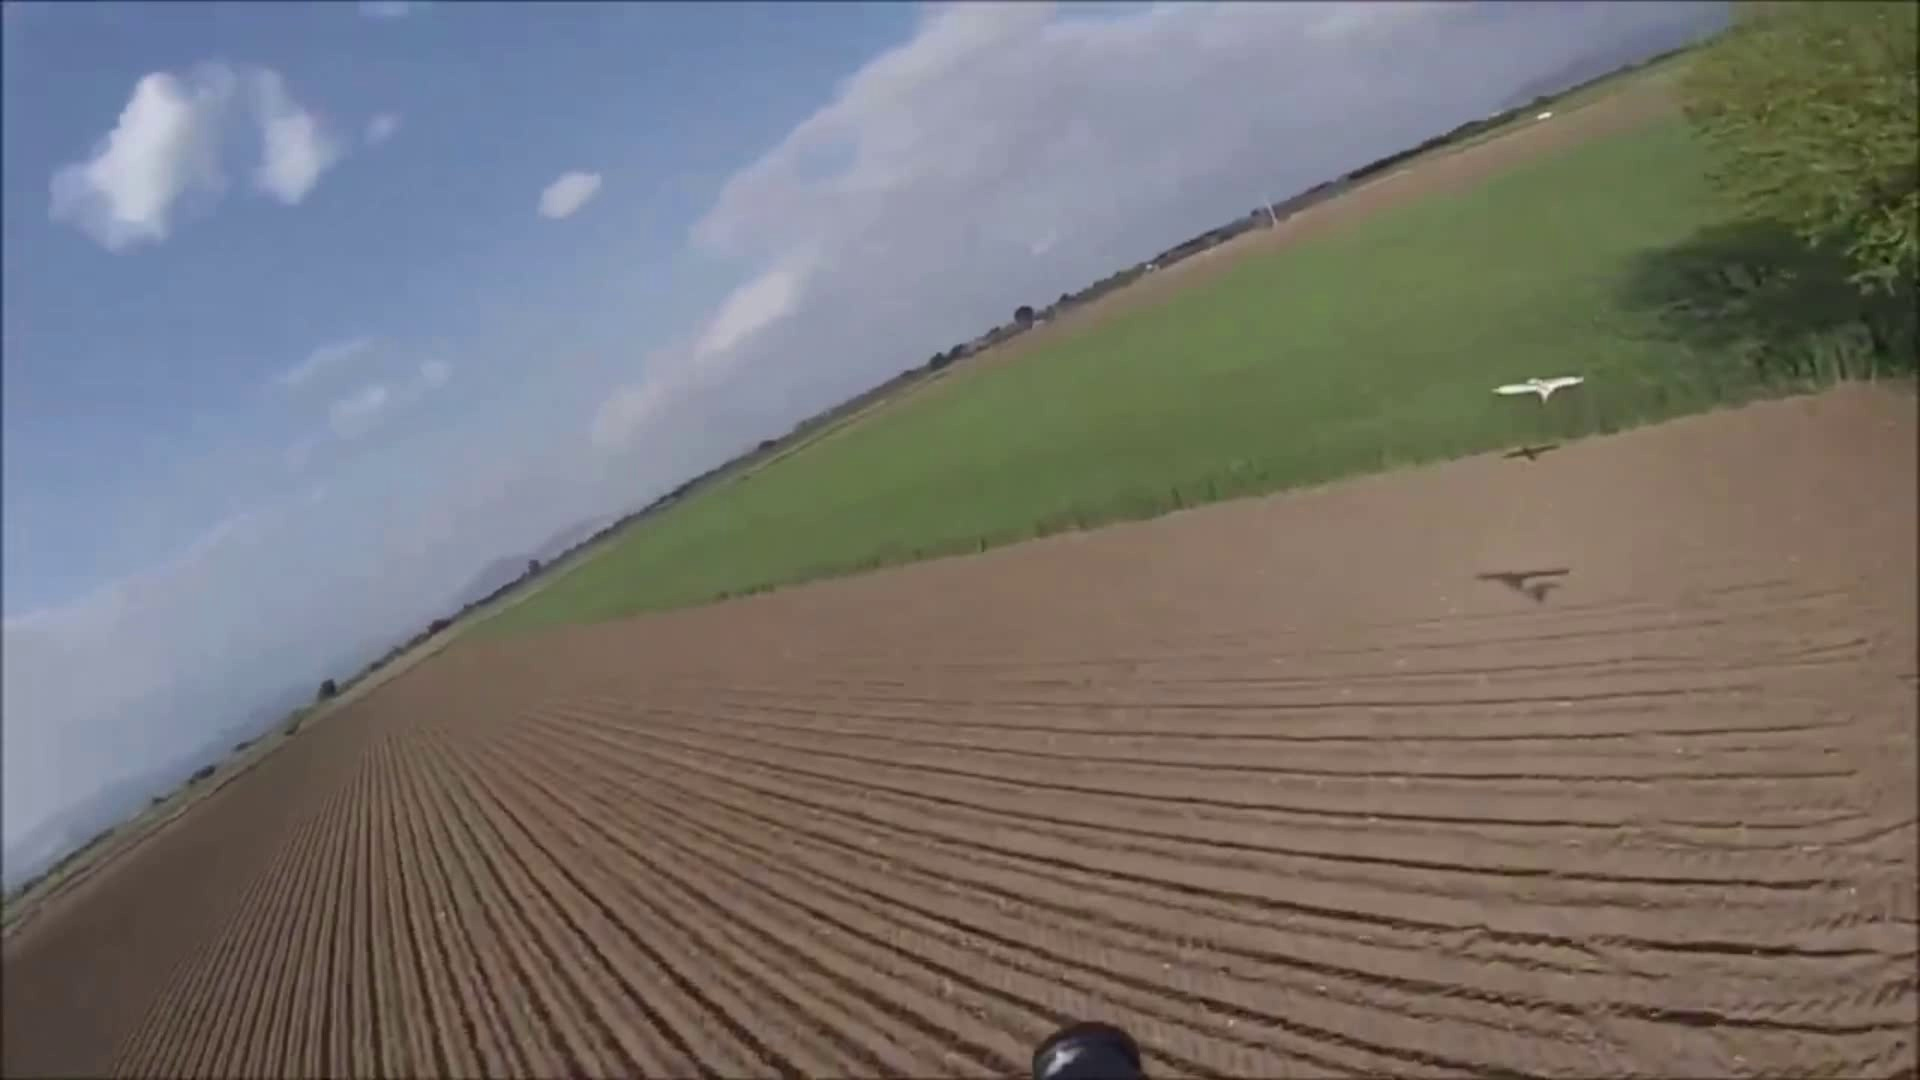airplane: (1470, 562, 1572, 603), (1493, 375, 1586, 400)
